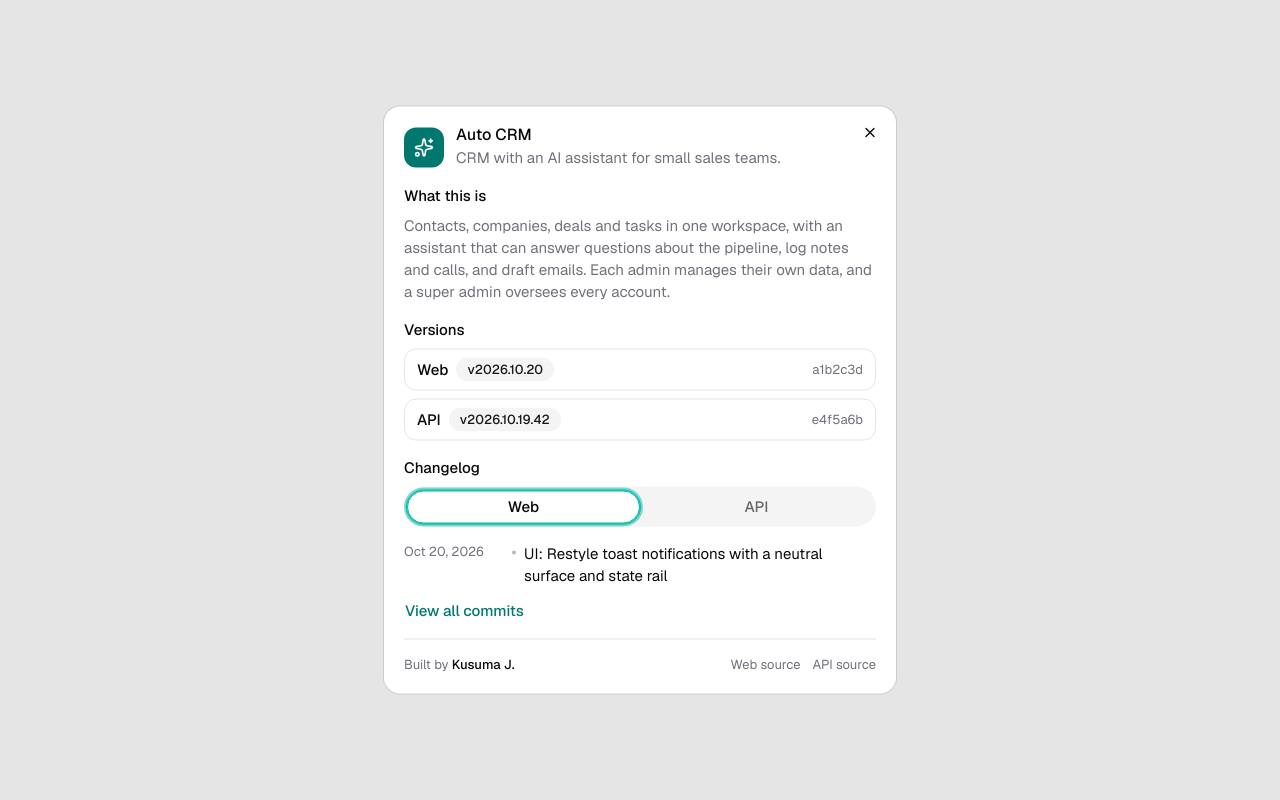
Test case: AboutDialog › switches between the web and API changelogs
Expected: the text "UI: Restyle toast notifications with a neutral surface and state rail" is shown, [524,544,822,584]
Click the tab "API": [756, 506] box [640,490,873,523]
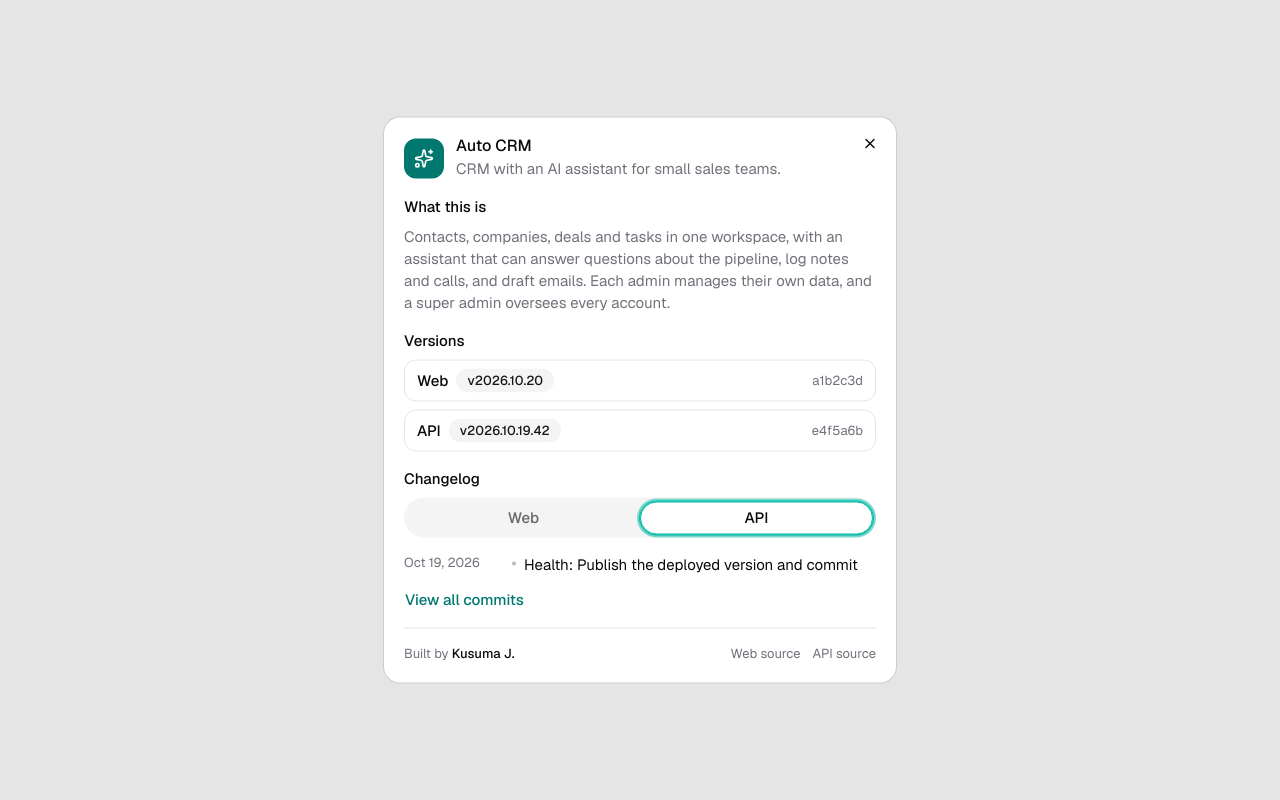
Expected: the text "Health: Publish the deployed version and commit" is shown, [524,554,858,576]
